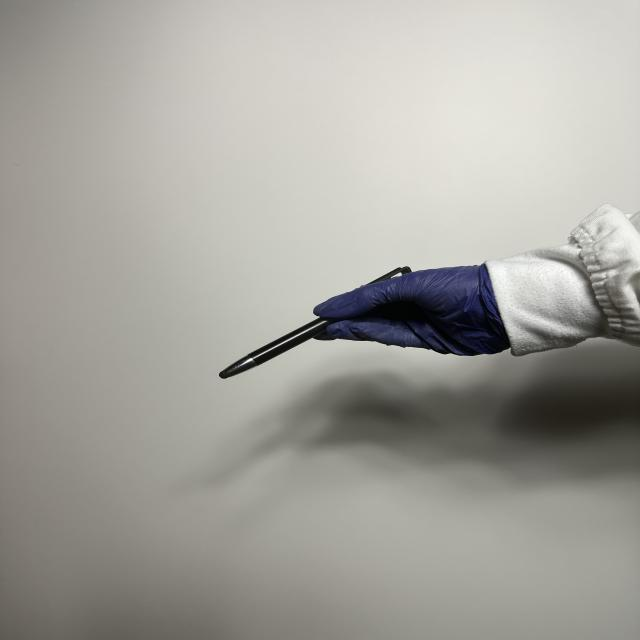gloves_contaminated: (314, 265, 509, 356)
